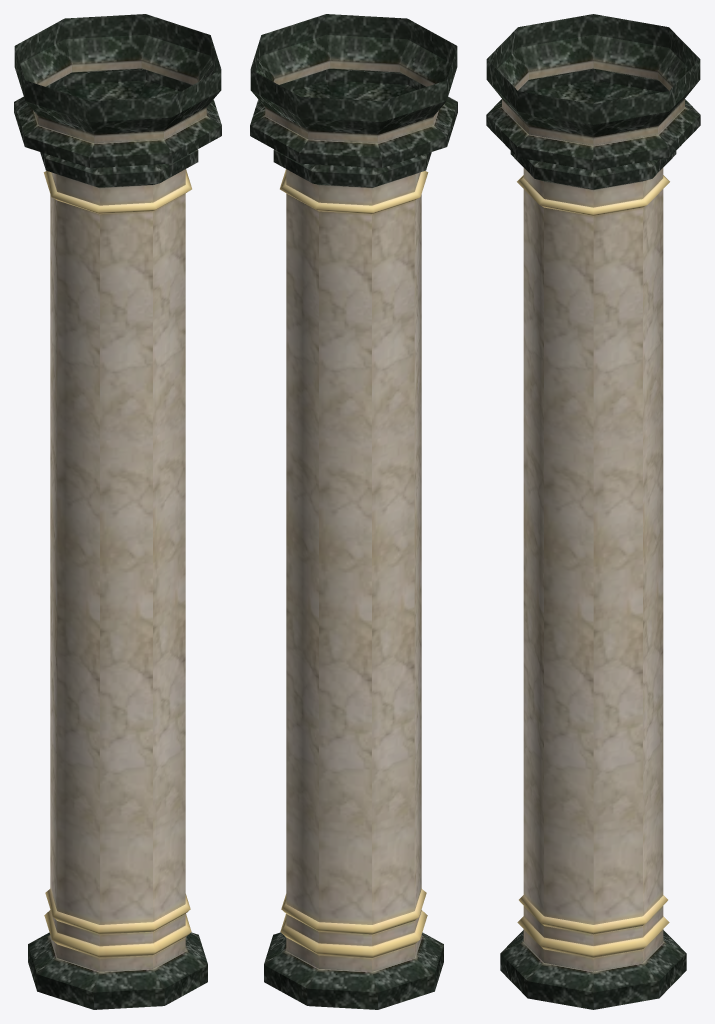
File: tower-base-column-art.glb
The picture shows the model from 3 angles, left to right: view 1: azimuth 30°, elevation 25°; view 2: azimuth 150°, elevation 25°; view 3: azimuth 270°, elevation 25°; orthographic projection.
Parts seen in each view (by area): view 1: Tower_Base_Column_Art; view 2: Tower_Base_Column_Art; view 3: Tower_Base_Column_Art.
Boxes of the visible parts, box(x1,y1,x2,y2) form: Tower_Base_Column_Art: box(14, 14, 221, 1009); Tower_Base_Column_Art: box(250, 14, 457, 1009); Tower_Base_Column_Art: box(486, 14, 700, 1009).
Bounding box in the file's own units: 1.56 × 7.33 × 1.56.
1 material, 1 textured.
